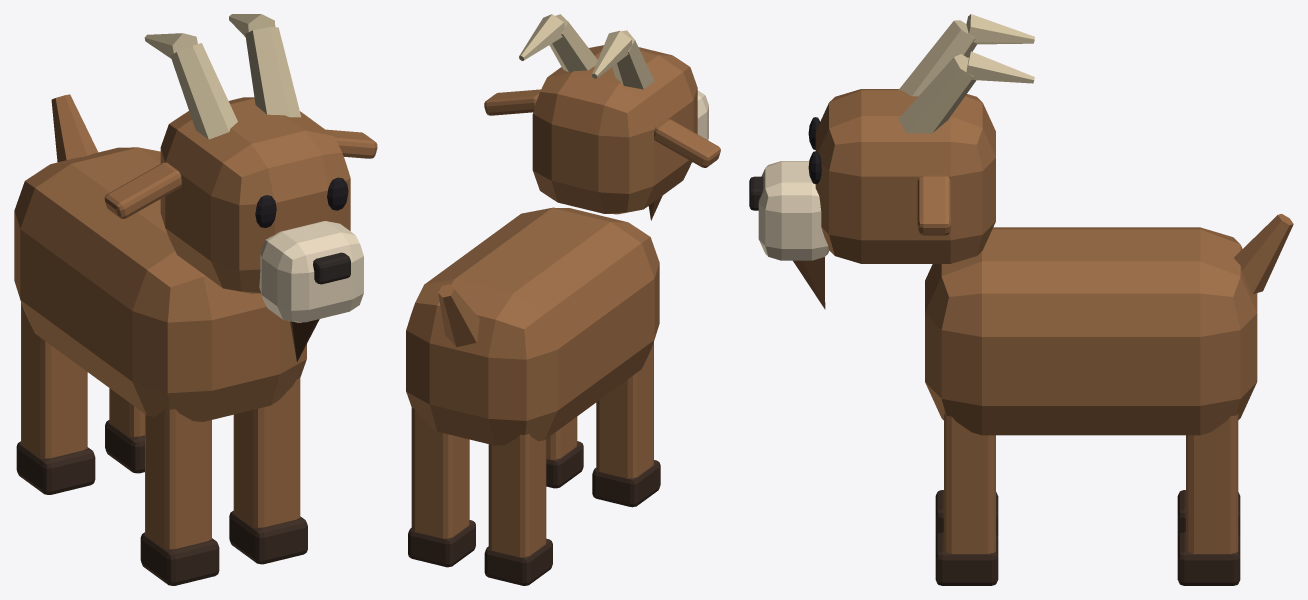
The model's file is goat_brown.glb.
3 renders of one model, left to right at view 1: azimuth 30°, elevation 25°; view 2: azimuth 150°, elevation 25°; view 3: azimuth 270°, elevation 25°, orthographic. The views are drawn at different scales.
Visible parts, largest first — view 1: body_mesh, head_mesh, leg_fr_mesh, leg_fl_mesh, leg_br_mesh, leg_bl_mesh, ear_r_mesh, tail_mesh, ear_l_mesh; view 2: body_mesh, head_mesh, leg_br_mesh, leg_bl_mesh, leg_fr_mesh, leg_fl_mesh, ear_r_mesh, tail_mesh, ear_l_mesh; view 3: body_mesh, head_mesh, leg_bl_mesh, leg_fl_mesh, tail_mesh, ear_l_mesh.
Part boxes in pixels (<box>): body_mesh: <box>14,147,306,421</box>; head_mesh: <box>144,14,363,361</box>; leg_fr_mesh: <box>140,408,219,585</box>; leg_fl_mesh: <box>229,378,307,564</box>; leg_br_mesh: <box>16,302,95,494</box>; leg_bl_mesh: <box>105,388,144,473</box>; ear_r_mesh: <box>104,162,181,218</box>; tail_mesh: <box>51,94,98,162</box>; ear_l_mesh: <box>326,129,377,158</box>; body_mesh: <box>406,207,659,445</box>; head_mesh: <box>519,14,708,220</box>; leg_br_mesh: <box>484,434,552,585</box>; leg_bl_mesh: <box>408,407,475,567</box>; leg_fr_mesh: <box>592,342,660,507</box>; leg_fl_mesh: <box>546,416,583,488</box>; ear_r_mesh: <box>654,119,720,167</box>; tail_mesh: <box>438,284,479,347</box>; ear_l_mesh: <box>484,89,540,115</box>; body_mesh: <box>925,227,1257,435</box>; head_mesh: <box>749,14,1034,309</box>; leg_bl_mesh: <box>1177,413,1240,585</box>; leg_fl_mesh: <box>935,413,998,585</box>; tail_mesh: <box>1234,213,1293,293</box>; ear_l_mesh: <box>917,175,950,235</box>.
Size of the model in its own units: 0.6176 by 1.21 by 1.15.
